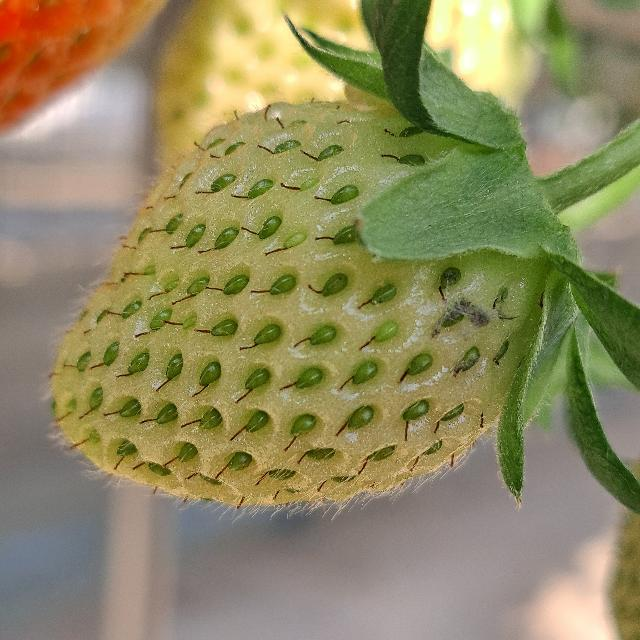Health_25: (51, 100, 554, 506)
